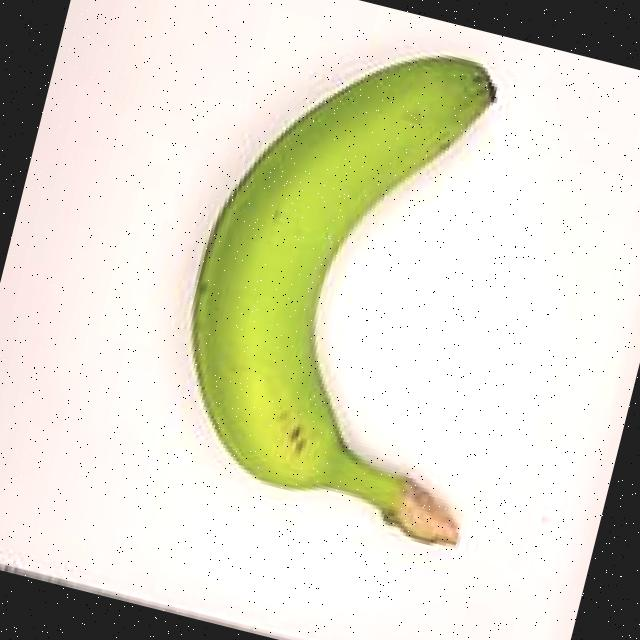Unripe: (111, 0, 602, 585)
